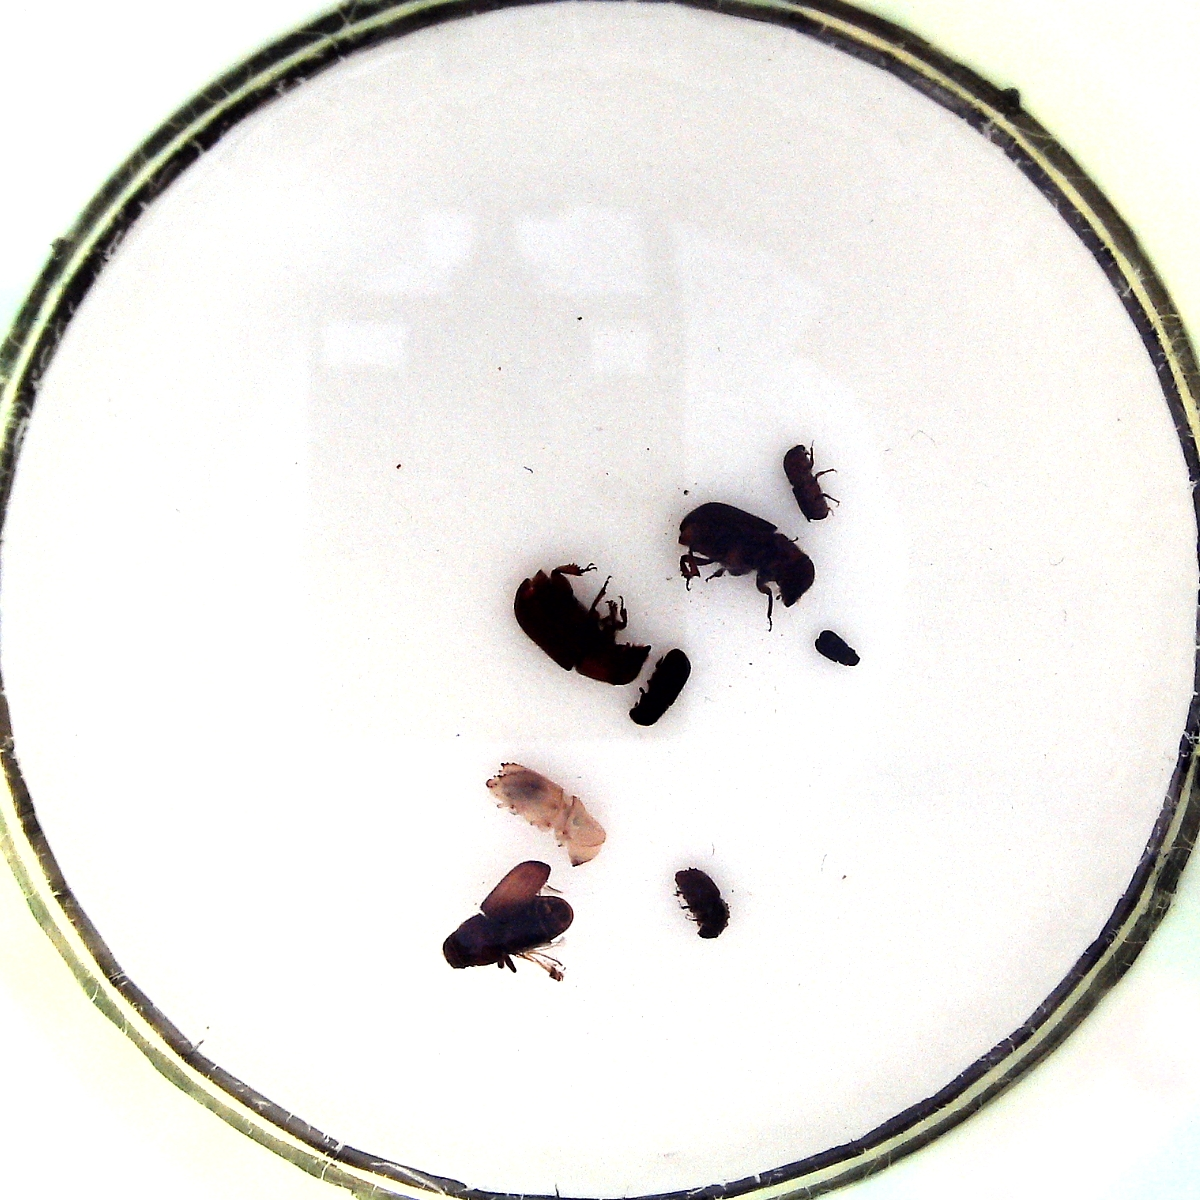Boerner: (482, 758, 607, 867)
Leconte: (674, 500, 813, 620), (510, 562, 646, 684), (440, 859, 571, 982)
Linnaeus: (669, 866, 732, 938)
acuminatus: (781, 441, 838, 523)
armandi: (629, 647, 695, 726)
coleoptera: (812, 625, 864, 671)
